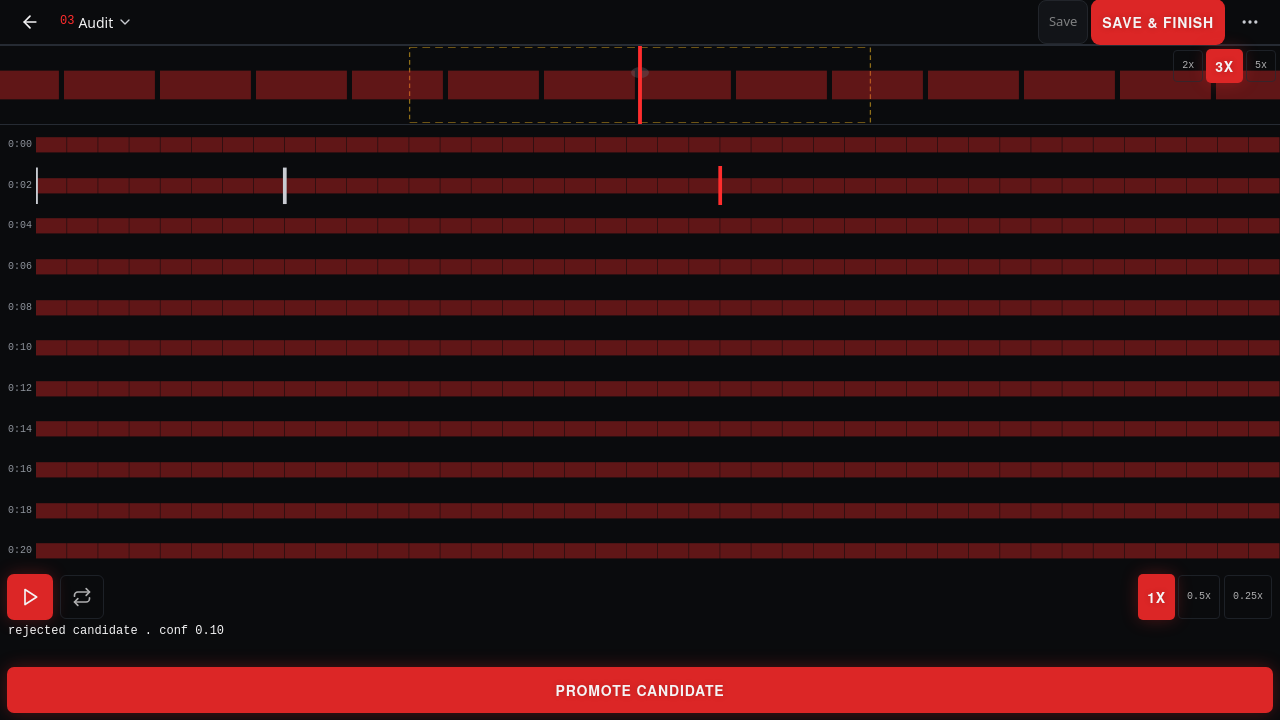
Test case: MobileAudit › a 409 on save reloads the doc and says the stage changed elsewhere
Click the button "Promote candidate".
click(640, 690)  # box [8,668,1272,712]
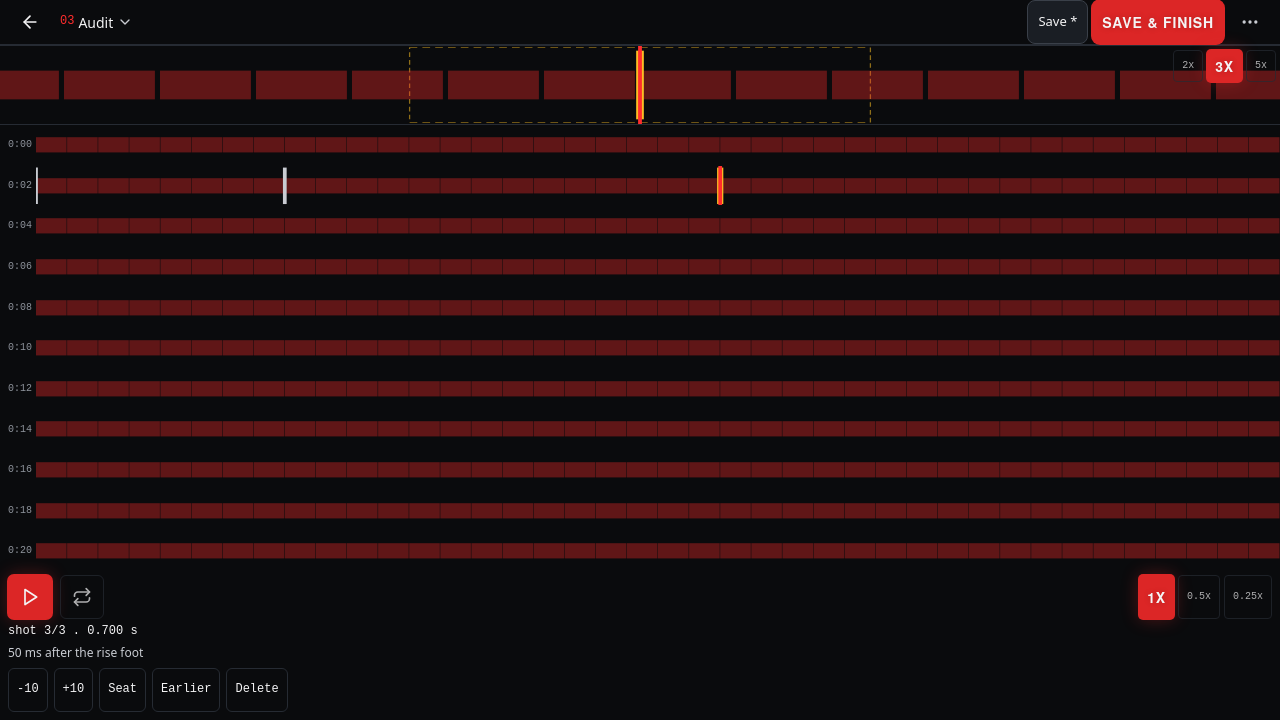
Click the button "Save *".
click(1058, 22)  # box [1027,0,1088,44]
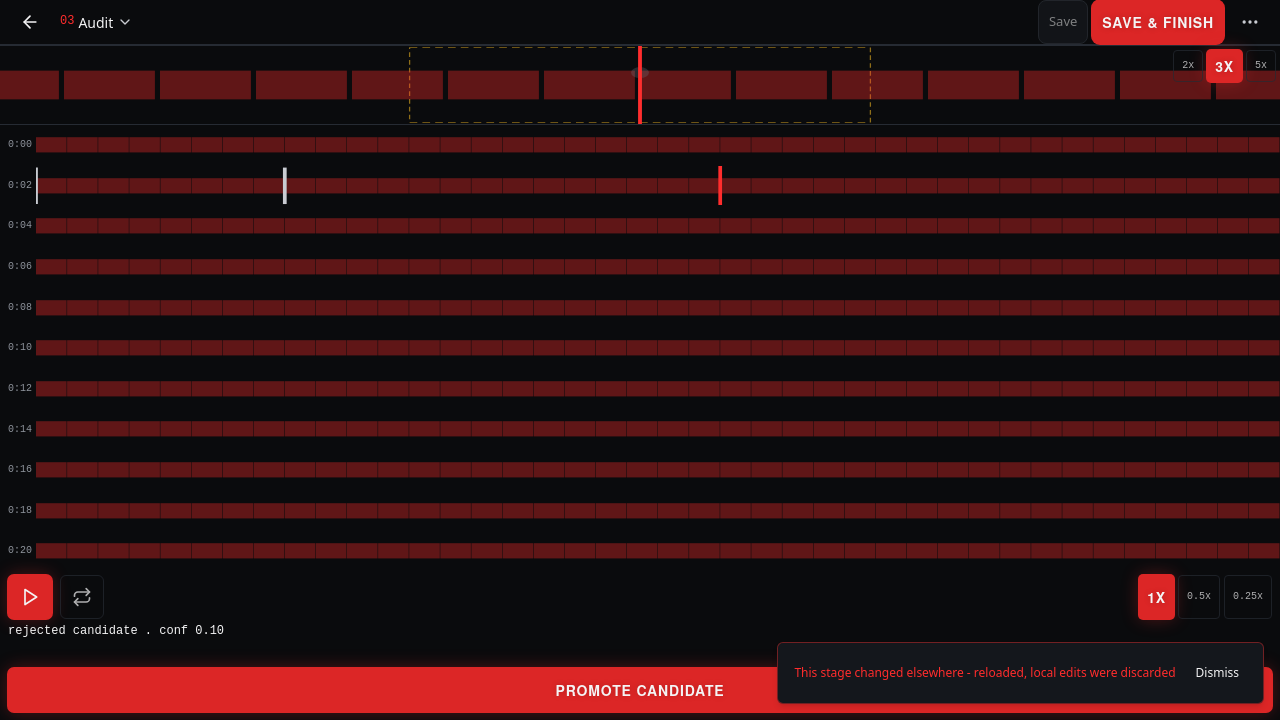
expect the text "changed elsewhere" is shown: met, box [794,664,1176,681]
